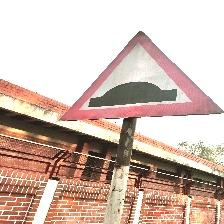Speed-breaker: (58, 32, 223, 120)
